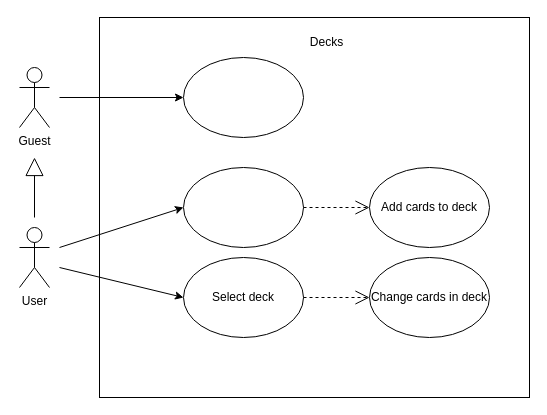
This 547x415 diagram has some shape labels left out. The shapes that lost their labels are listed below. From the top down, each one's box as (x1, y1, x2, y2) in pixels, then its label:
(182, 56, 304, 138): Login
(182, 166, 304, 248): Create new deck
